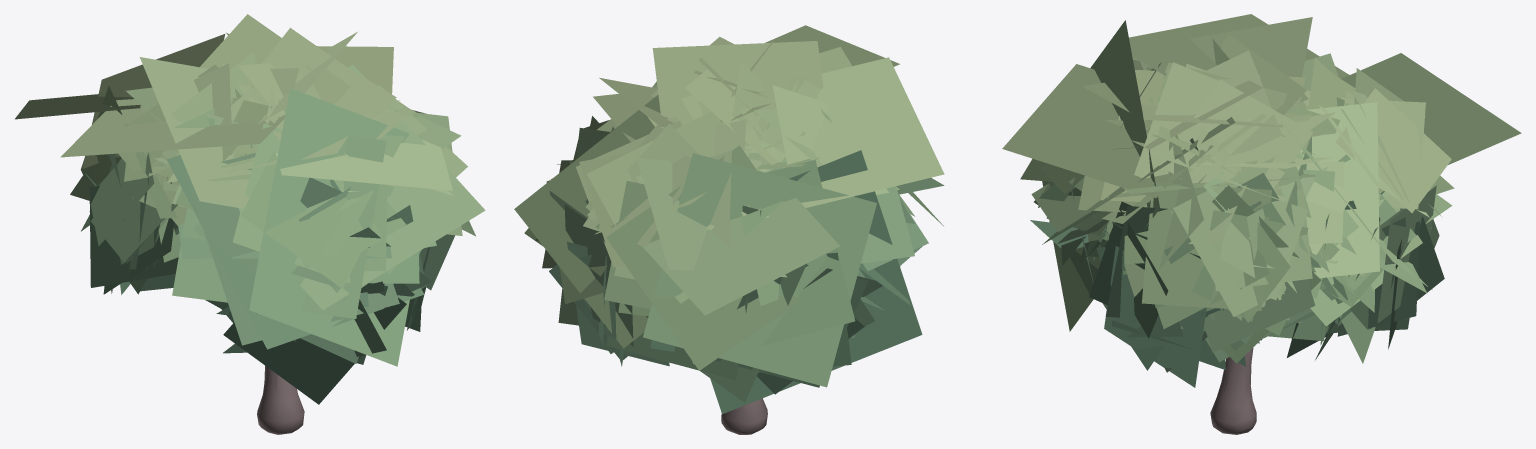
The model's file is oak_v4.glb.
3 views of the same model, side by side, from view 1: azimuth 30°, elevation 25°; view 2: azimuth 150°, elevation 25°; view 3: azimuth 270°, elevation 25° (orthographic).
Visible parts, largest first — view 1: far, near; view 2: far, near; view 3: near, far.
Part boxes in pixels (box(x1,y1,x2,y2)): far: box(15, 14, 485, 391); near: box(70, 27, 475, 434); far: box(514, 25, 944, 414); near: box(535, 37, 928, 434); near: box(1030, 50, 1454, 434); far: box(1002, 14, 1521, 393).
Bounding box in the file's own units: 15.63 × 14.87 × 18.01.
